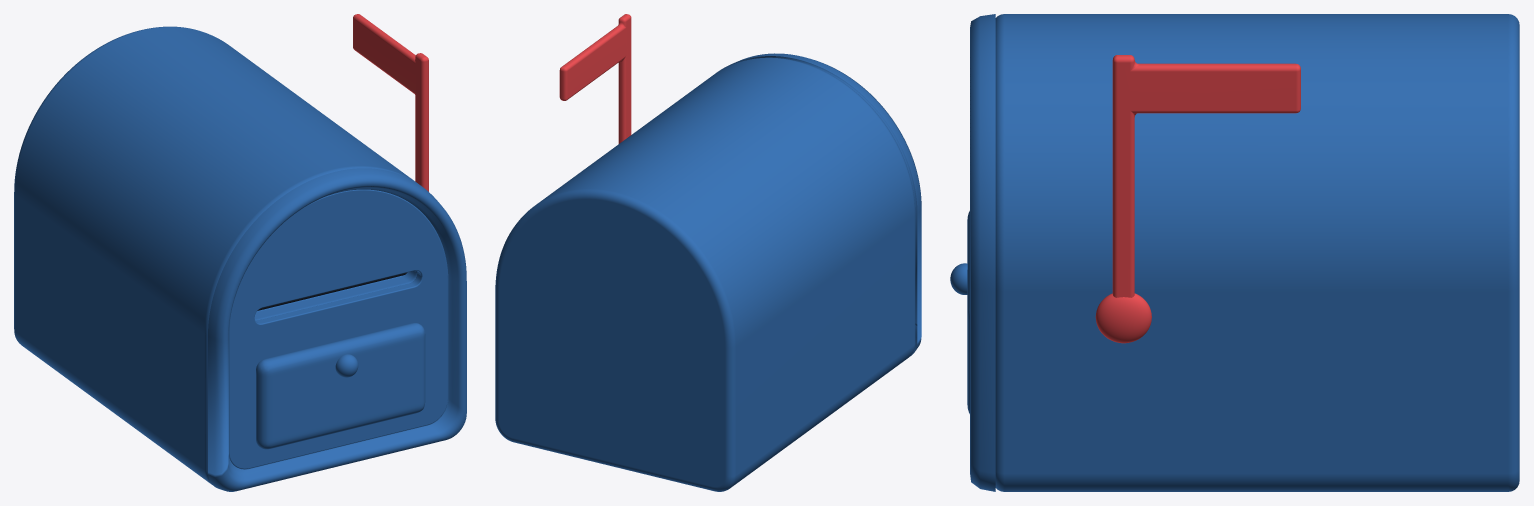
The model's file is mailbox.glb.
3 views of the same model, side by side, from view 1: azimuth 30°, elevation 25°; view 2: azimuth 150°, elevation 25°; view 3: azimuth 270°, elevation 25° (orthographic). The views are drawn at different scales.
Visible parts, largest first — view 1: Mailbox_Puffy_Body, Recessed_Front_Face, Front_Rim_Continuous_Recess, Raised_Soft_Front_Panel, Flag_Soft_Red; view 2: Mailbox_Puffy_Body, Flag_Soft_Red, Front_Rim_Continuous_Recess; view 3: Mailbox_Puffy_Body, Flag_Soft_Red, Front_Rim_Continuous_Recess, Flag_Round_Pivot.
Part boxes in pixels (left/top/right/bottom): Mailbox_Puffy_Body: left=14, top=26, right=448, bottom=484; Recessed_Front_Face: left=229, top=189, right=447, bottom=469; Front_Rim_Continuous_Recess: left=208, top=168, right=466, bottom=491; Raised_Soft_Front_Panel: left=256, top=323, right=425, bottom=449; Flag_Soft_Red: left=353, top=14, right=428, bottom=191; Mailbox_Puffy_Body: left=495, top=57, right=915, bottom=491; Flag_Soft_Red: left=559, top=14, right=631, bottom=143; Front_Rim_Continuous_Recess: left=716, top=53, right=921, bottom=356; Mailbox_Puffy_Body: left=995, top=14, right=1519, bottom=491; Flag_Soft_Red: left=1112, top=55, right=1300, bottom=297; Front_Rim_Continuous_Recess: left=970, top=14, right=995, bottom=491; Flag_Round_Pivot: left=1095, top=293, right=1151, bottom=343.
Bounding box in the file's own units: 3.41 × 4.08 × 4.66.
